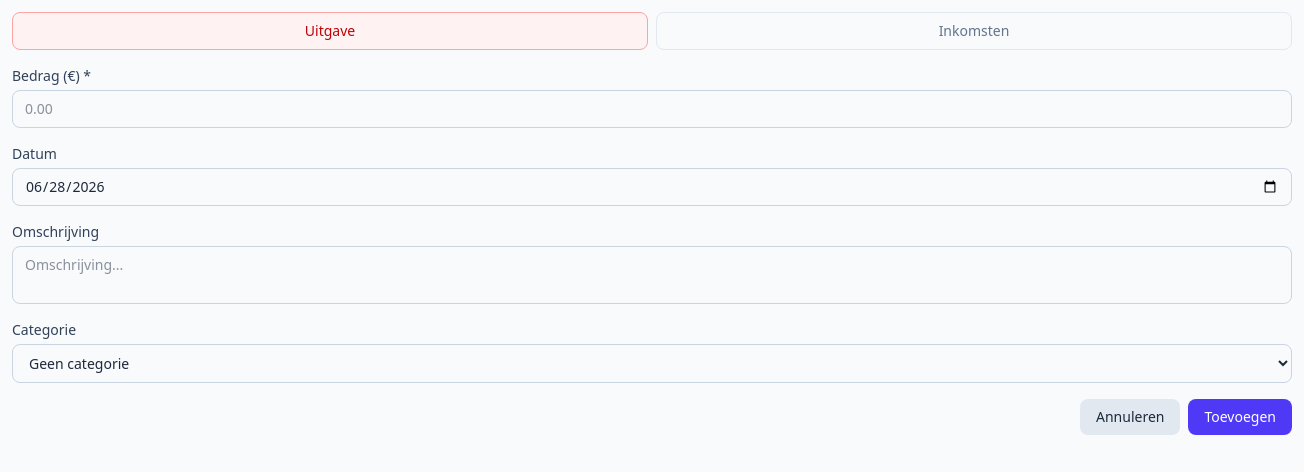
TransactionForm › toont validatiefout als bedrag leeg is
This screenshot has width=1304, height=472.
Step 1. Click the button "Toevoegen" → (1240, 417), box [1188,399,1292,435]
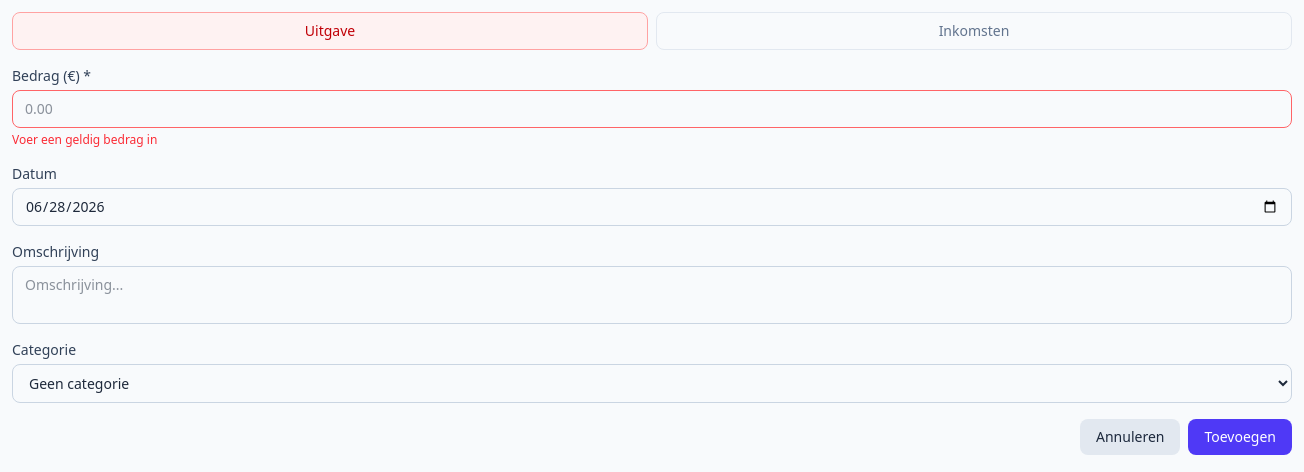
Check: the text "Voer een geldig bedrag in" is shown, box [12,131,157,148]
